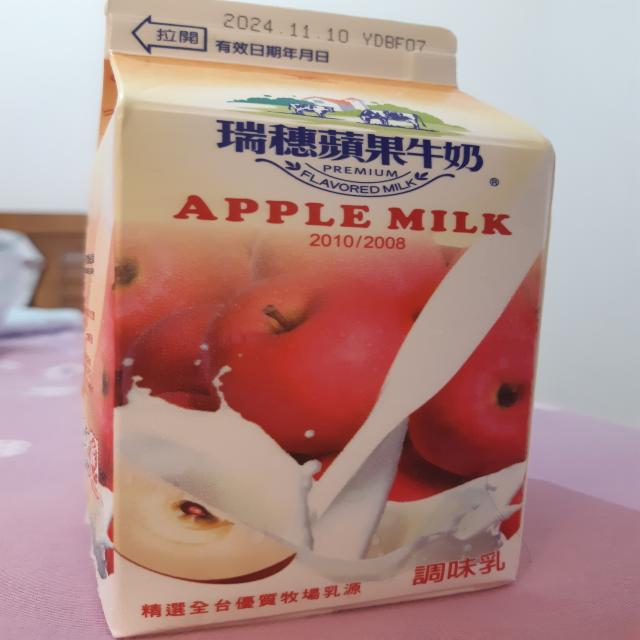RuiSui_AppleMilk: (80, 0, 566, 640)
